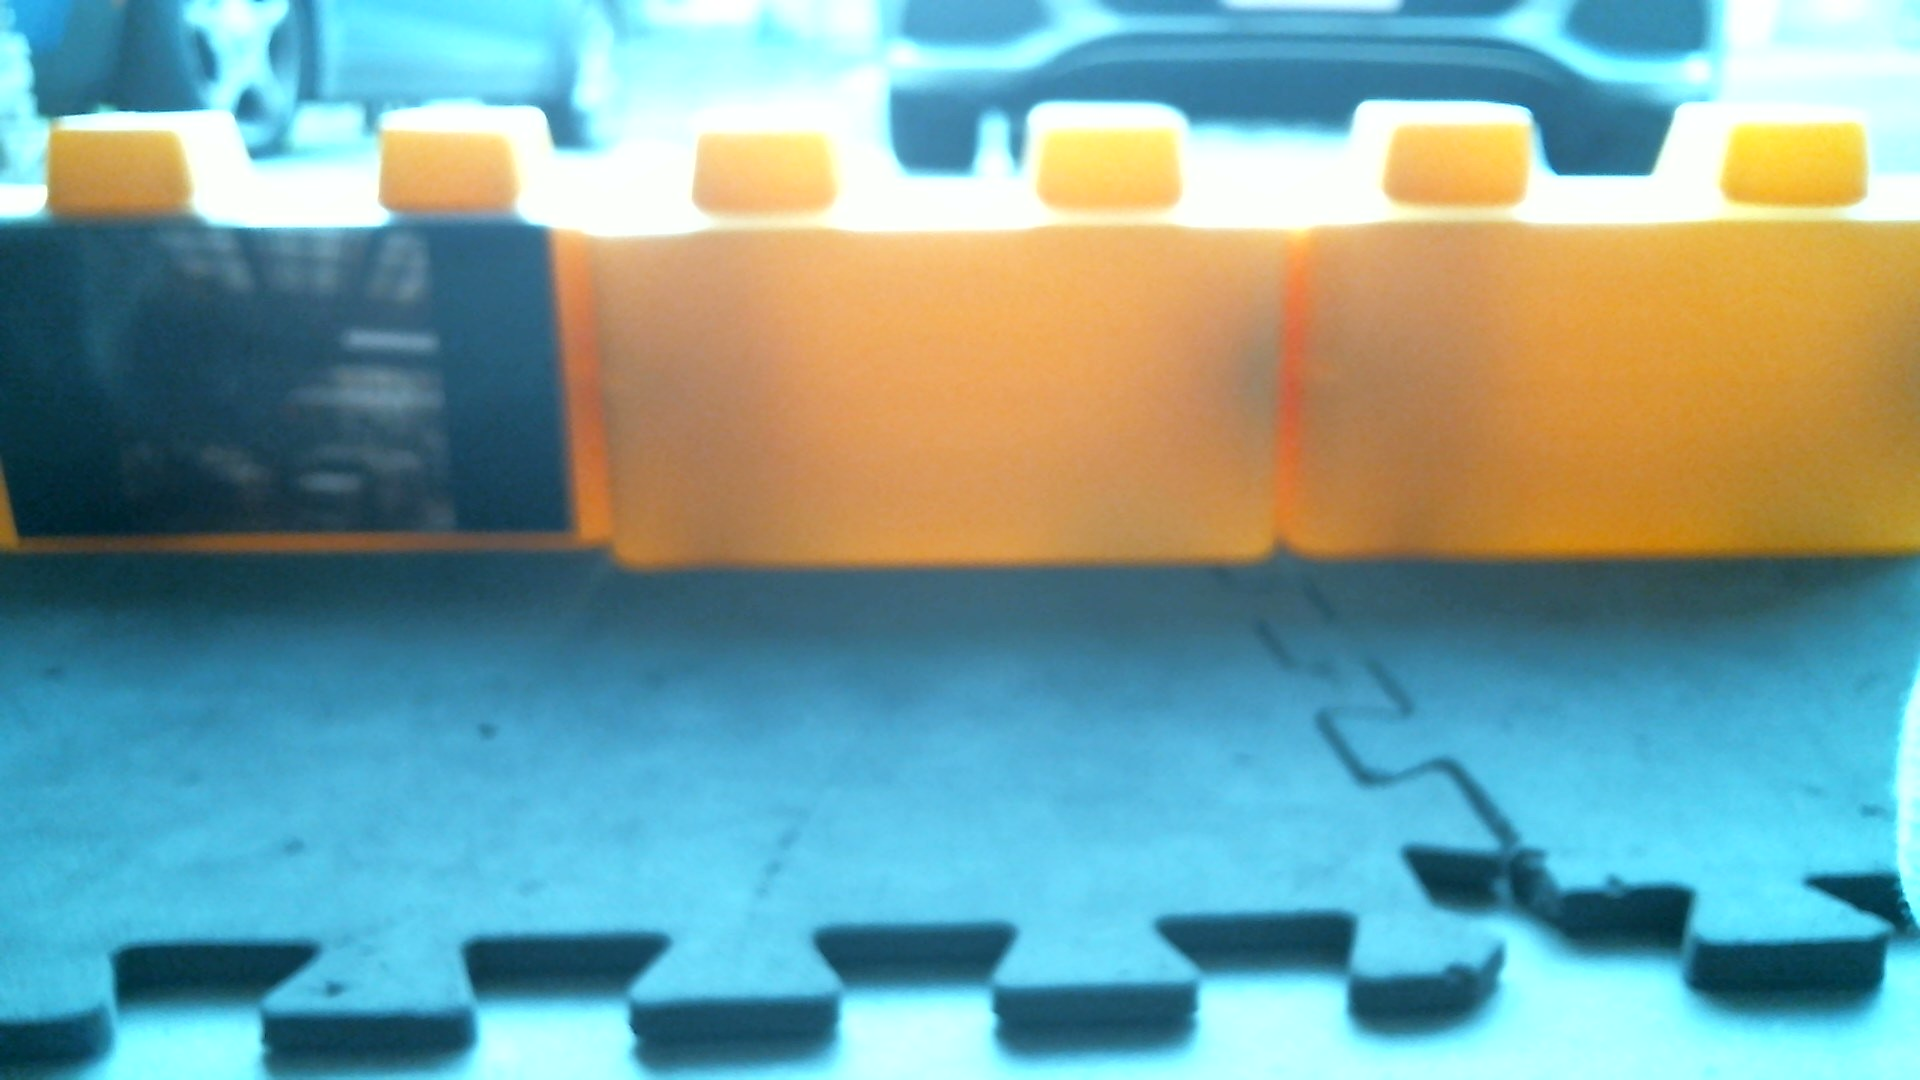left: (3, 120, 1920, 589)
